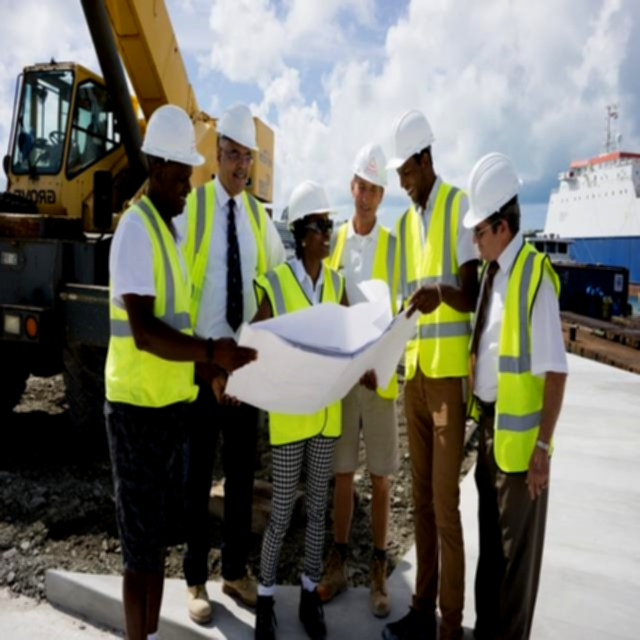Con_Chaleco: (475, 234, 552, 475), (391, 193, 466, 382), (178, 184, 266, 340)
